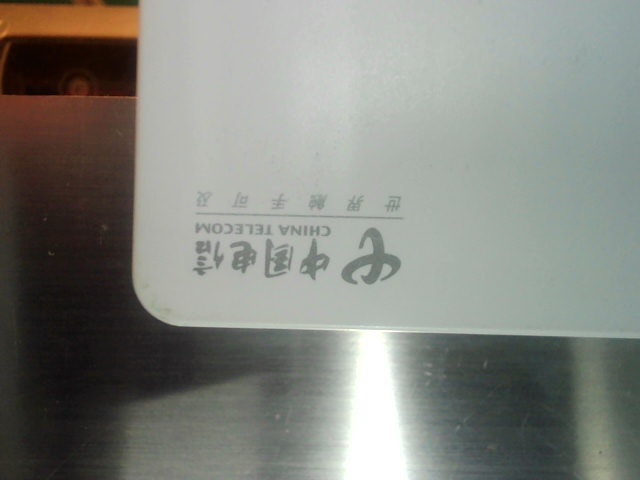AB_ChinaTelecom: (193, 183, 413, 289)
